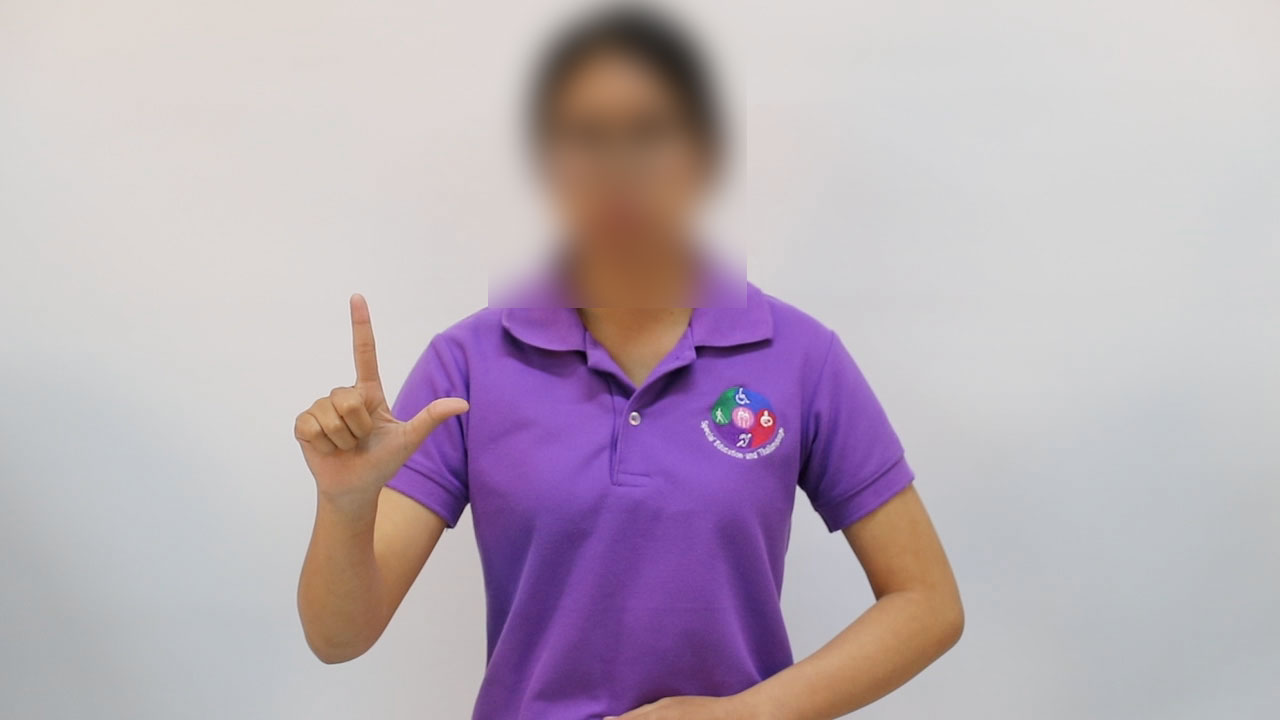lor: (282, 288, 483, 525)
